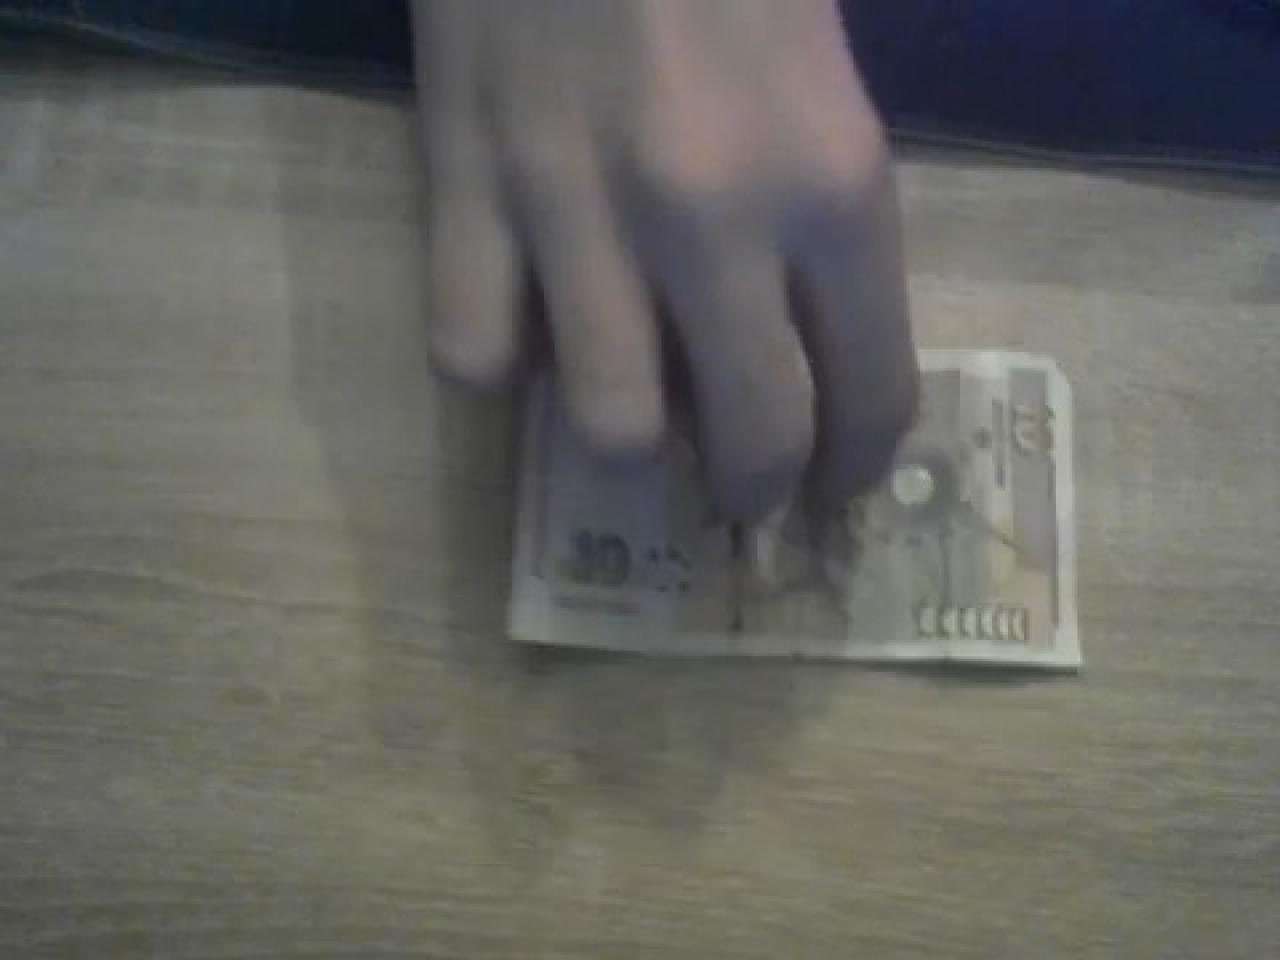10leva: (507, 347, 1088, 675)
